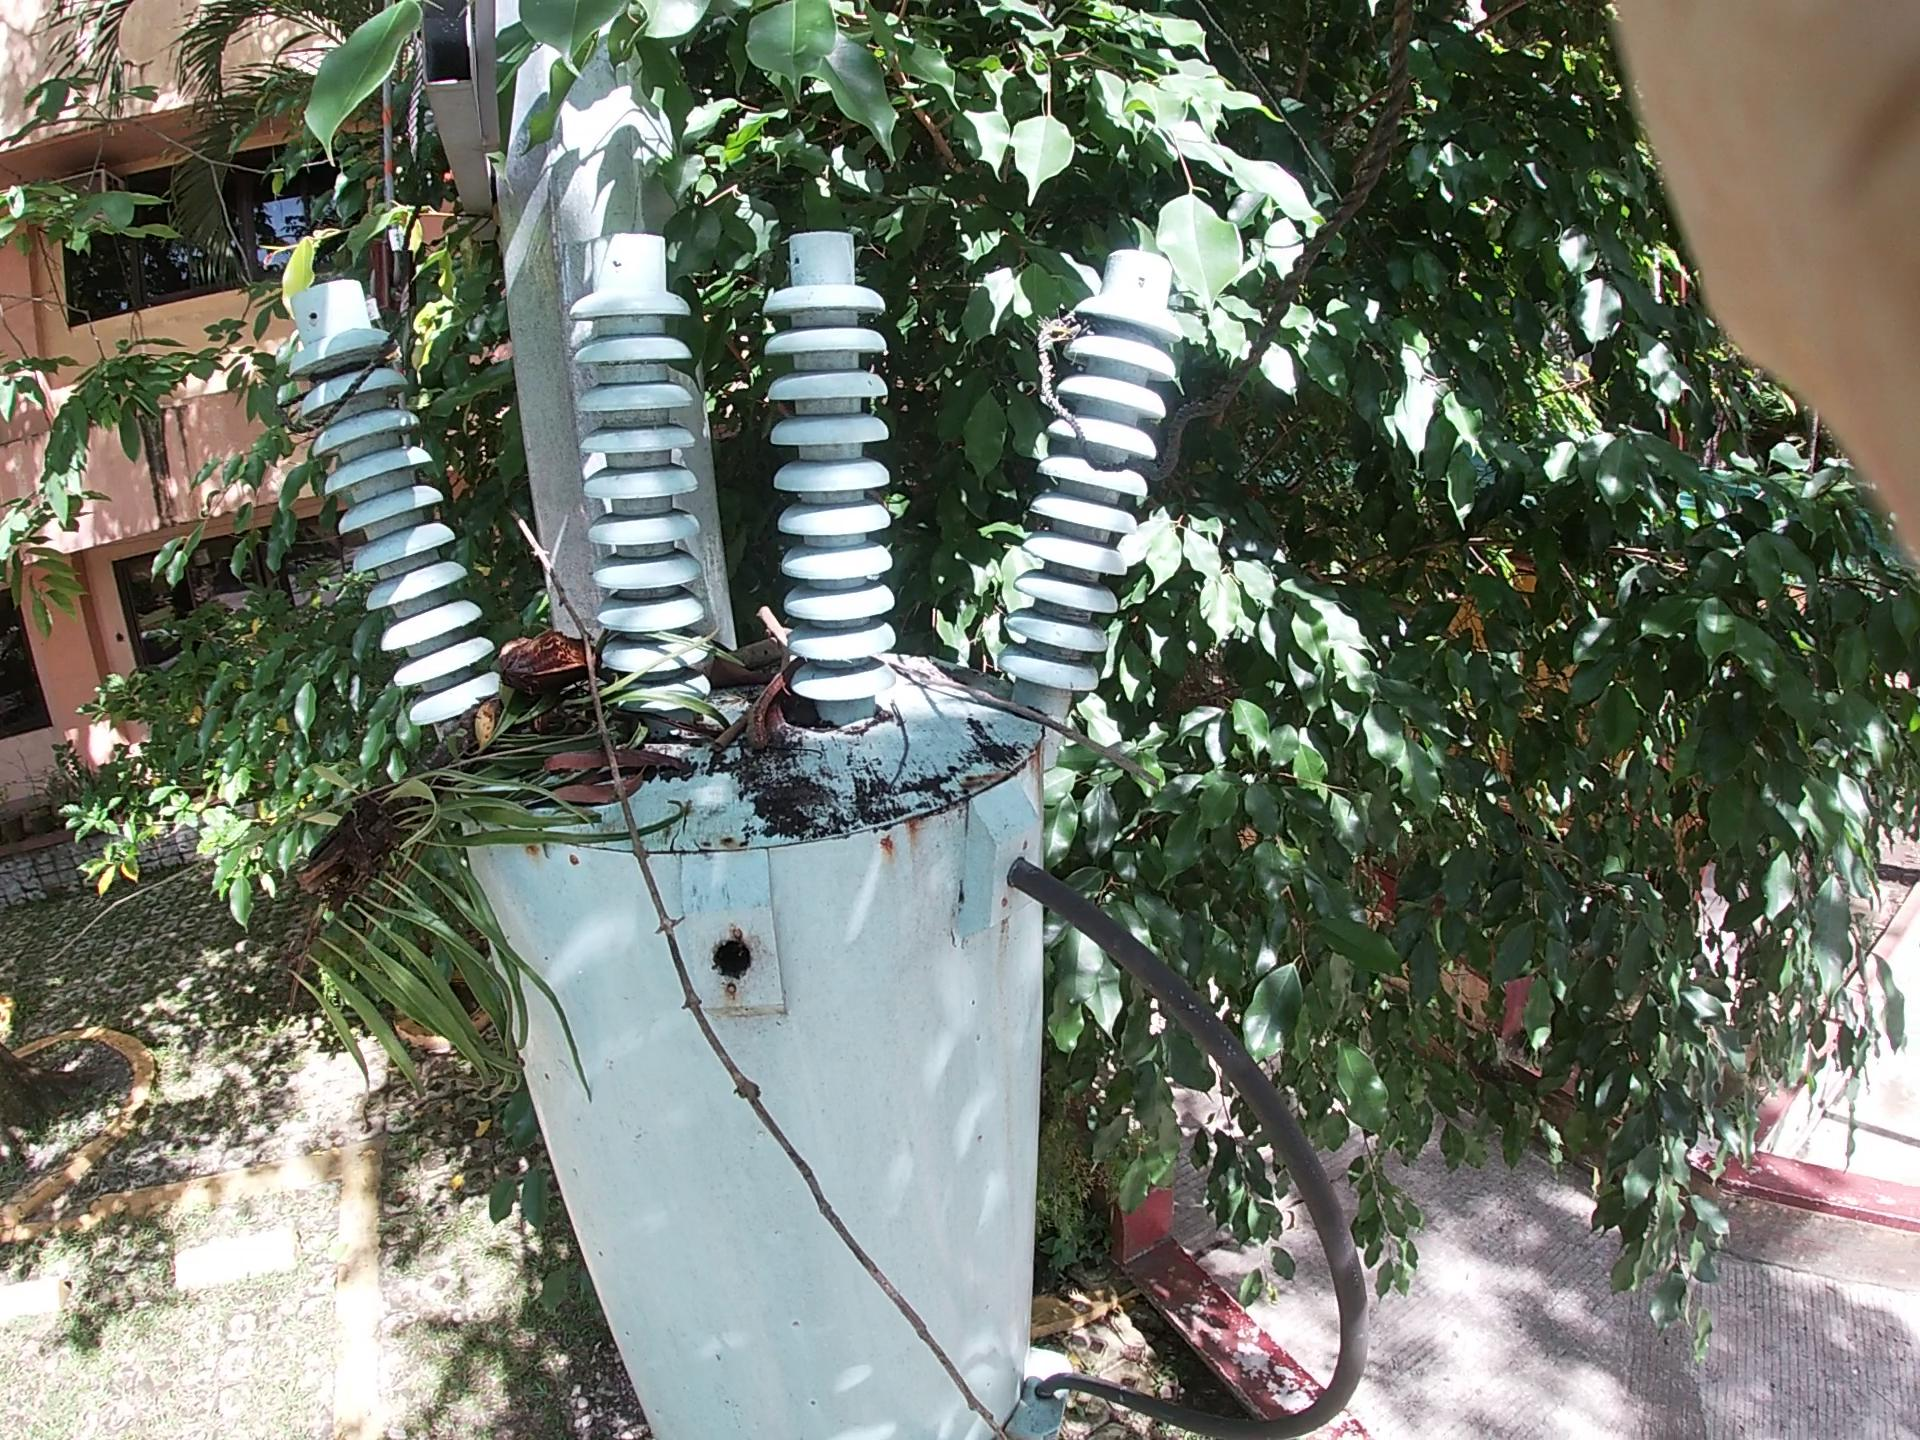branch with leaves: (299, 393, 853, 1134)
leaf: (257, 2, 1143, 293)
mahogany fruit: (485, 613, 612, 726), (742, 672, 838, 791)
tree branch: (428, 431, 925, 1266), (822, 594, 1209, 855), (701, 669, 794, 826)
